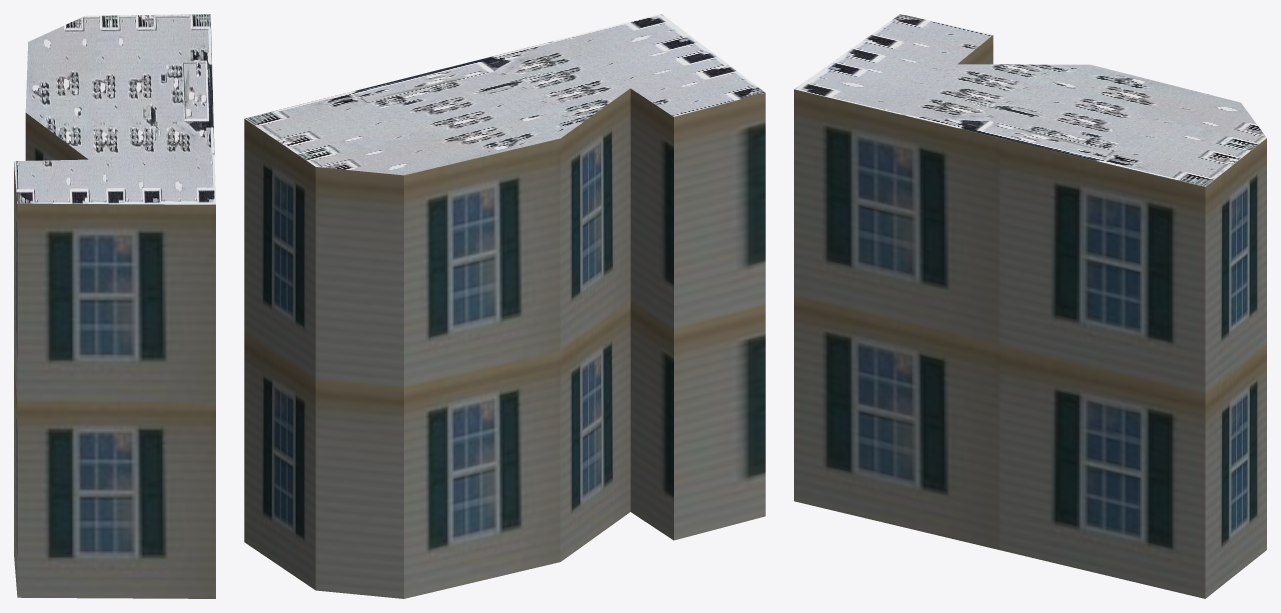
The model's file is ResTex__4564.fbx.
3 renders of one model, left to right at view 1: azimuth 30°, elevation 25°; view 2: azimuth 150°, elevation 25°; view 3: azimuth 270°, elevation 25°, orthographic. The views are drawn at different scales.
Parts seen in each view (by area): view 1: CityEngineMaterial_7_m, CityEngineMaterial_2_m; view 2: CityEngineMaterial_7_m, CityEngineMaterial_2_m; view 3: CityEngineMaterial_7_m, CityEngineMaterial_2_m.
Part boxes in pixels (box(x1,y1,x2,y2)): CityEngineMaterial_7_m: box(14, 113, 215, 598); CityEngineMaterial_2_m: box(14, 14, 215, 204); CityEngineMaterial_7_m: box(244, 88, 765, 598); CityEngineMaterial_2_m: box(244, 14, 765, 175); CityEngineMaterial_7_m: box(794, 35, 1266, 598); CityEngineMaterial_2_m: box(794, 14, 1266, 186).
Size of the model in its own units: 5.4 by 6 by 6.24.
2 materials, 2 textured.
